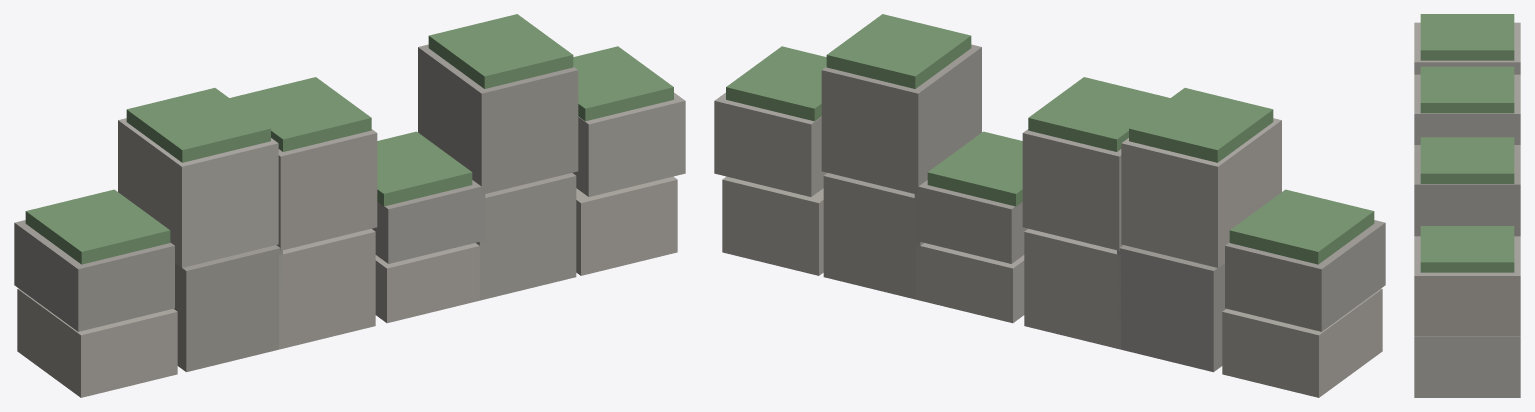
File: ruin_wall_low.glb
3 views of the same model, side by side, from view 1: azimuth 30°, elevation 25°; view 2: azimuth 150°, elevation 25°; view 3: azimuth 270°, elevation 25° (orthographic). The views are drawn at different scales.
Visible parts, largest first — view 1: ruin_wall_low; view 2: ruin_wall_low; view 3: ruin_wall_low.
Part boxes in pixels (box(x1,y1,x2,y2)): ruin_wall_low: box(14, 14, 685, 397); ruin_wall_low: box(714, 14, 1385, 397); ruin_wall_low: box(1414, 14, 1520, 397).
Bounding box in the file's own units: 3.01 × 1.04 × 0.548.
